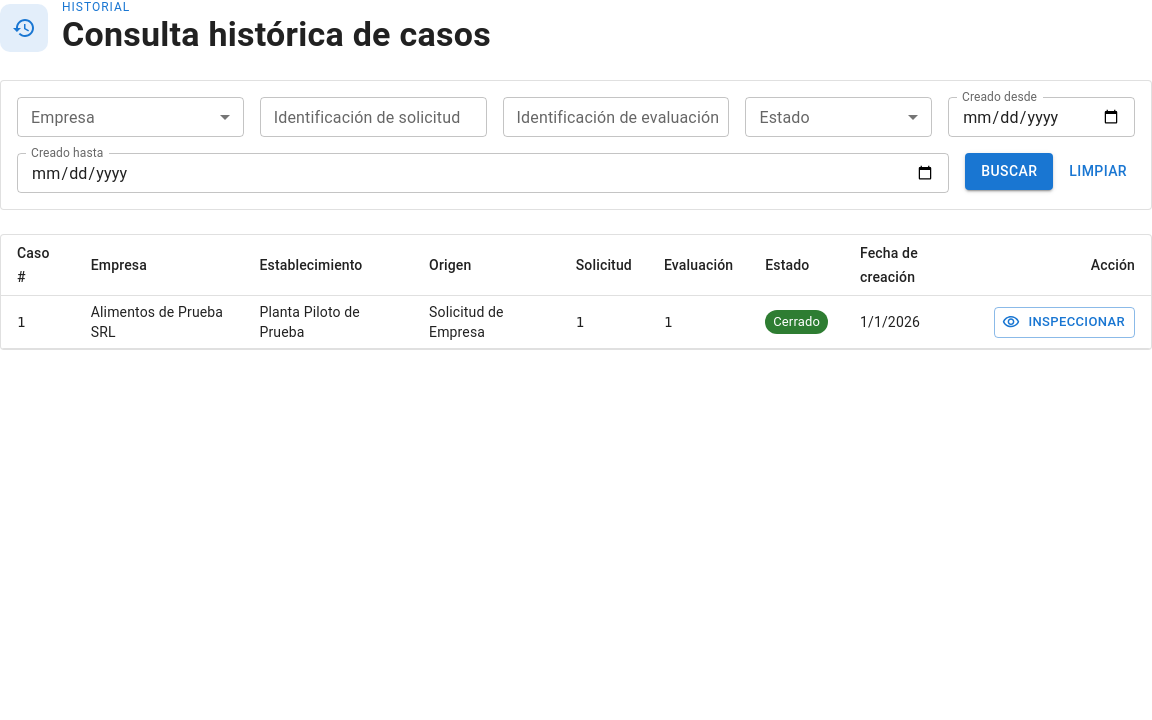
Test case: ConsultaHistorica › abre el modal de inspección en modo estrictamente solo lectura
Expected: the text "Alimentos de Prueba SRL" is shown, [75,296,244,349]
Click the button "Inspeccionar".
click(1065, 322)  # box [994,307,1135,338]
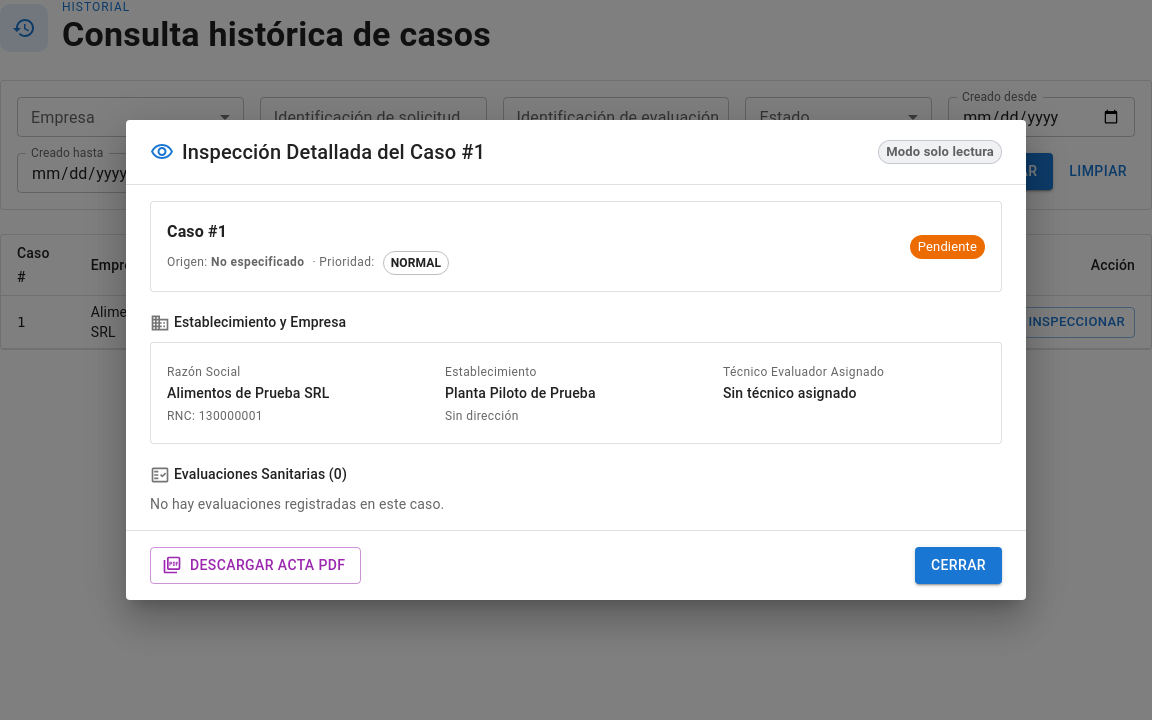
Now the text "Inspección Detallada del Caso #1" is shown, box [150,136,485,168]
Now the text "Modo solo lectura" is shown, box [879,142,1001,163]
